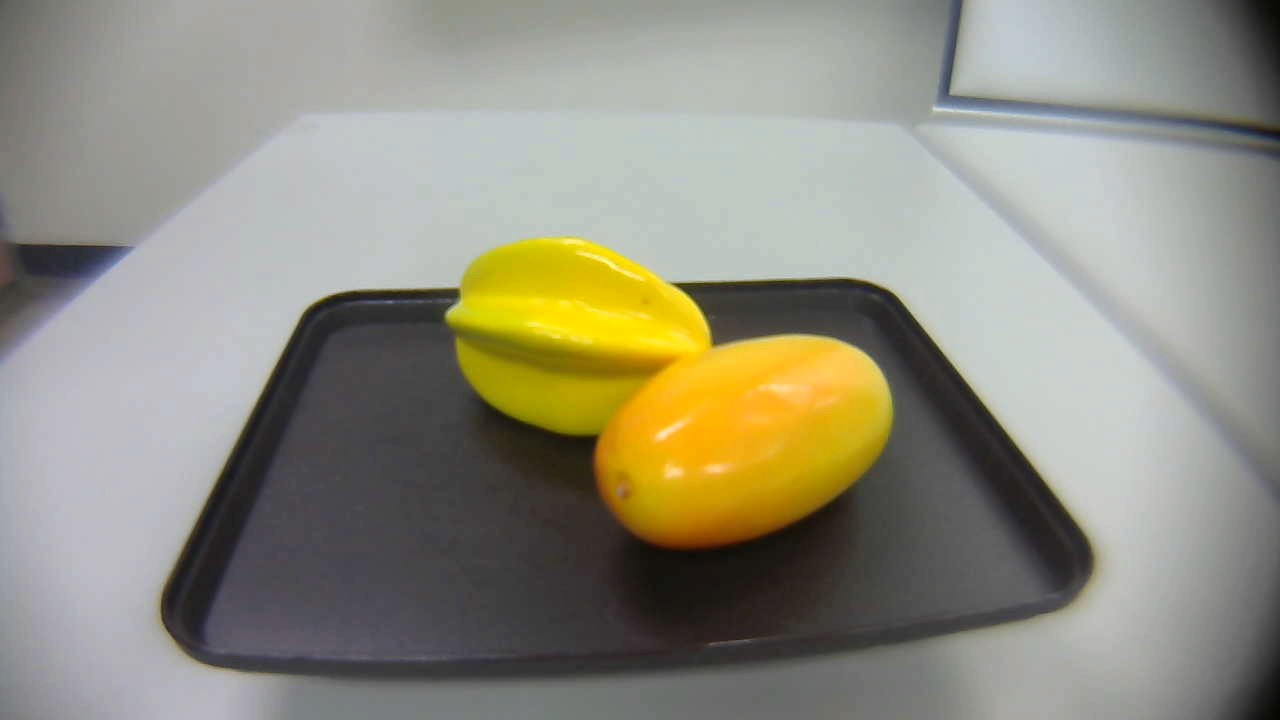star fruit: (436, 227, 717, 437)
yellow mango: (588, 334, 904, 548)
